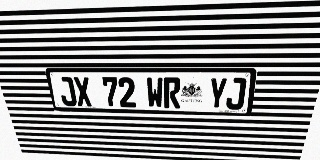2: (118, 77, 136, 107)
7: (101, 77, 120, 107)
J: (225, 78, 247, 110), (57, 77, 78, 106)
R: (163, 77, 181, 108)
W: (146, 77, 163, 108)
X: (73, 77, 93, 106)
Y: (208, 78, 228, 109)
